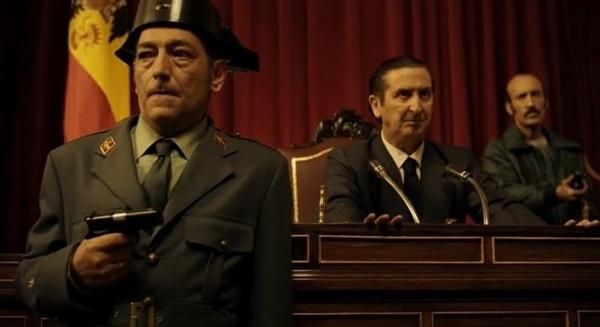Gun: (84, 207, 165, 243)
